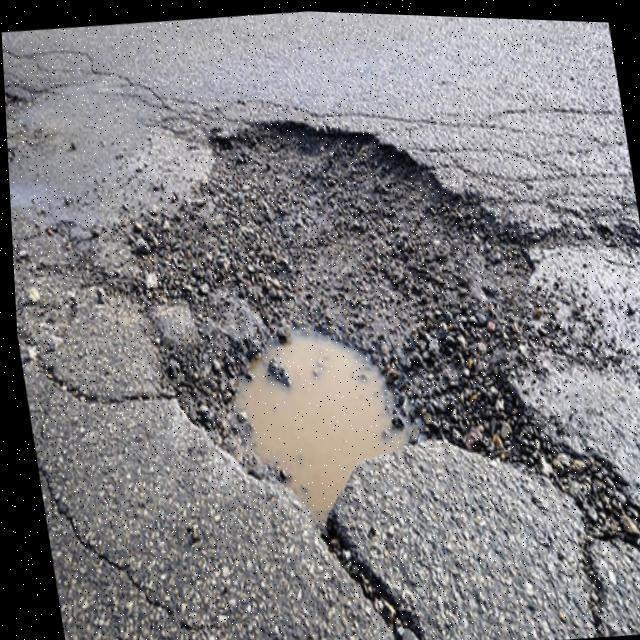Pothole: (116, 105, 600, 542)
